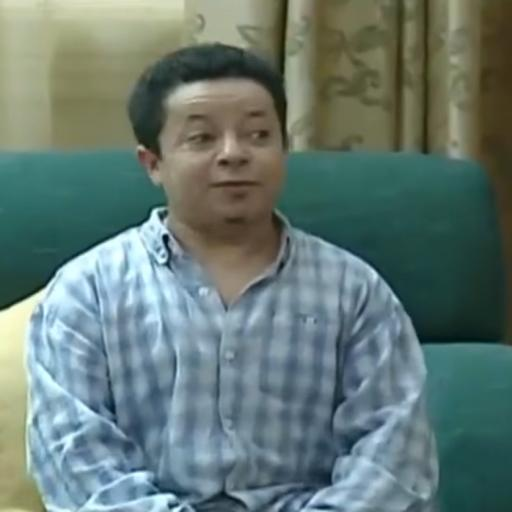fouchika: (128, 42, 288, 228)
